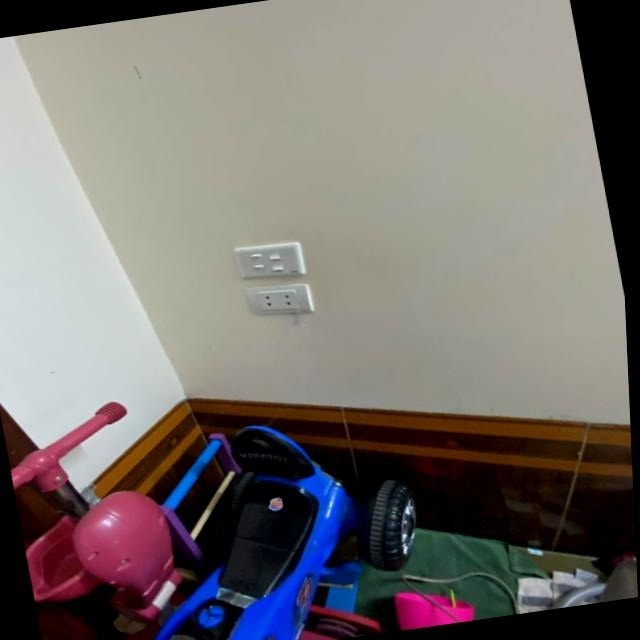outlet: (244, 280, 315, 323)
